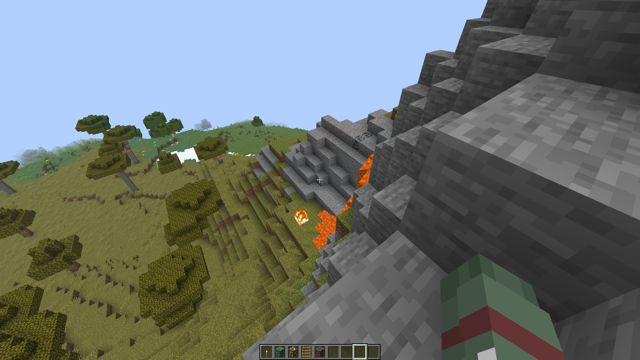coal: (354, 128, 373, 144)
